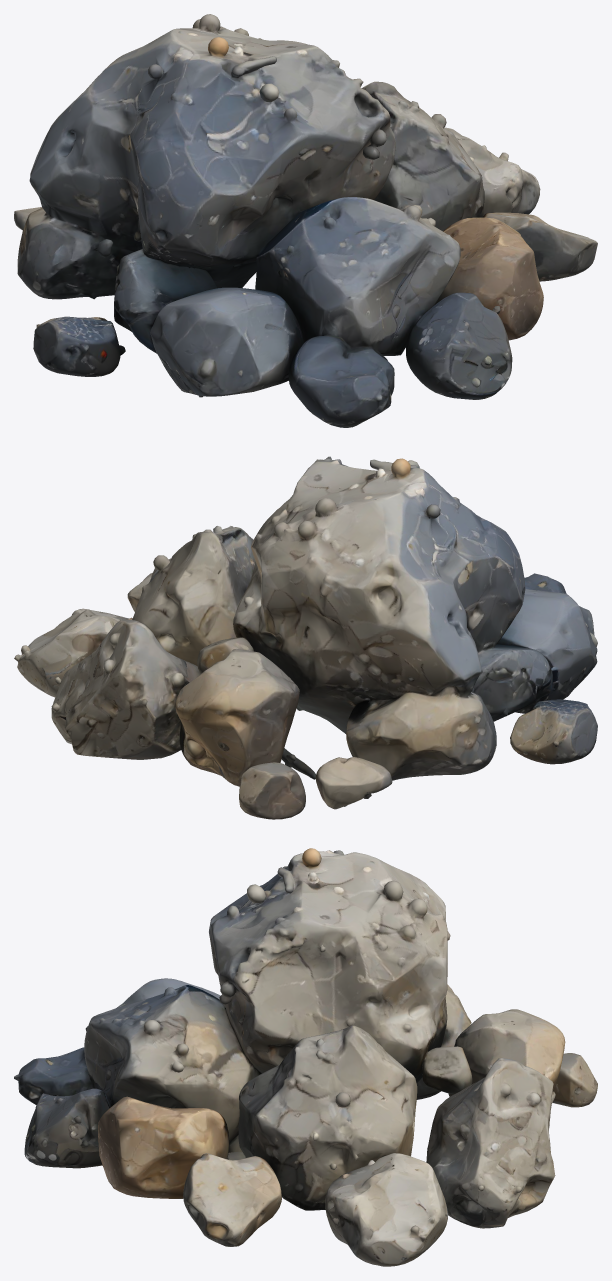
The model's file is nature-rock-cluster.glb.
3 views of the same model, one above another, from view 1: azimuth 30°, elevation 25°; view 2: azimuth 150°, elevation 25°; view 3: azimuth 270°, elevation 25° (orthographic). The views are drawn at different scales.
Visible parts, largest first — view 1: tripo_node_b3906a5a-9764-49d4-b7d9-86092b5fa876; view 2: tripo_node_b3906a5a-9764-49d4-b7d9-86092b5fa876; view 3: tripo_node_b3906a5a-9764-49d4-b7d9-86092b5fa876.
Boxes of the visible parts, box(x1,y1,x2,y2) form: tripo_node_b3906a5a-9764-49d4-b7d9-86092b5fa876: box(14, 14, 597, 427); tripo_node_b3906a5a-9764-49d4-b7d9-86092b5fa876: box(14, 456, 597, 819); tripo_node_b3906a5a-9764-49d4-b7d9-86092b5fa876: box(14, 848, 597, 1266).
Bounding box in the file's own units: 3.87 × 2 × 3.9.
1 material, 1 textured.
